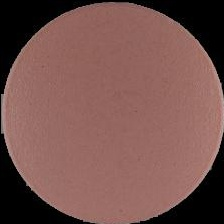68788-6324: (0, 0, 224, 224)
